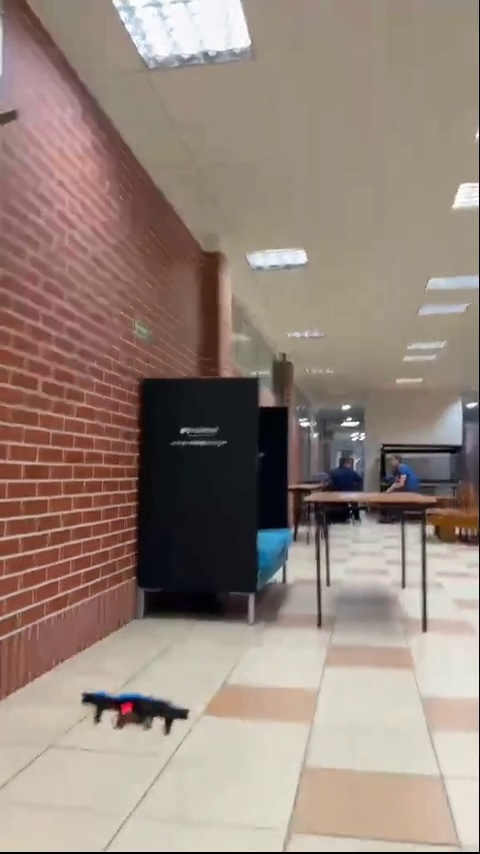drone: (81, 689, 195, 737)
no vest: (375, 441, 418, 501), (325, 451, 361, 496)
